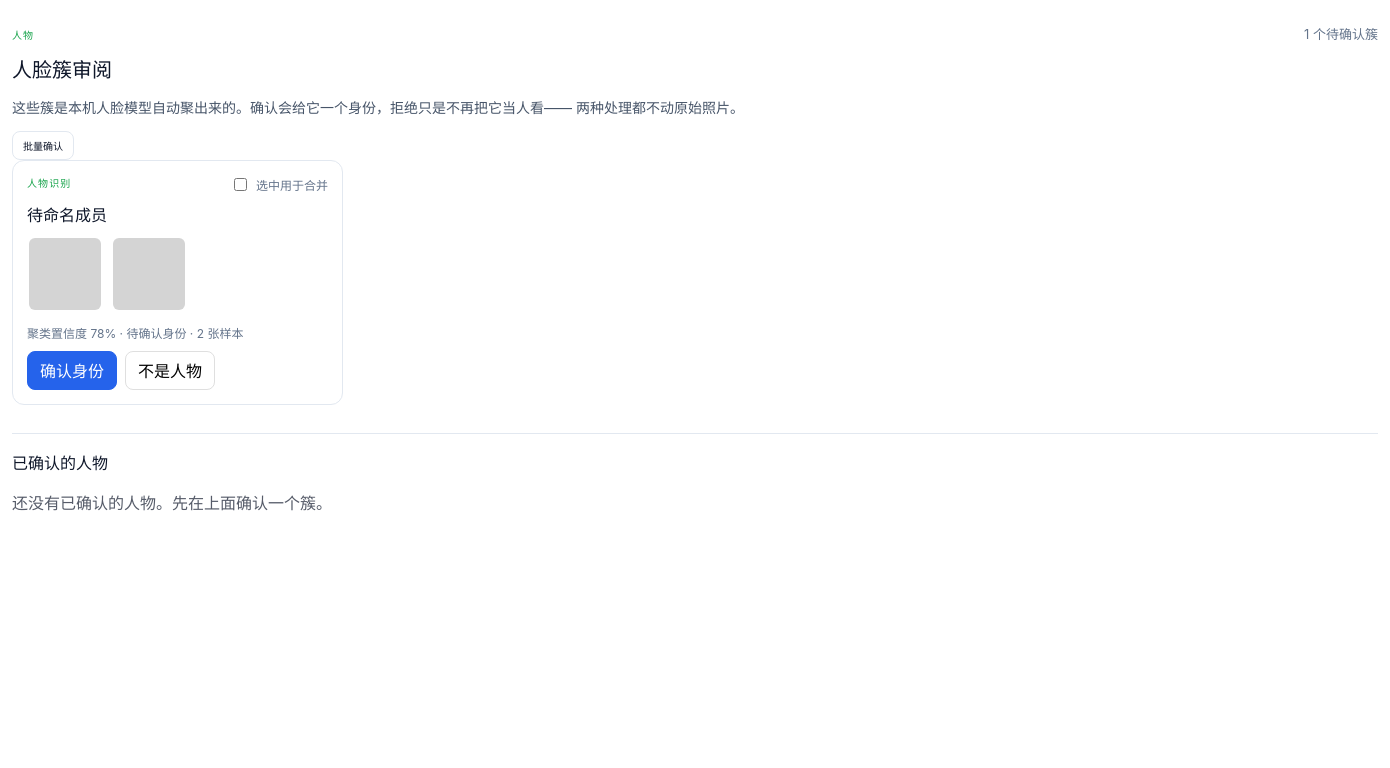
Scenario: 人脸簇审阅页 › 确认一个簇会带着名字与家庭角色打到 confirm 端点，并让它从待确认里消失
Click the button "确认身份".
click(72, 370)  # box [27,351,117,390]
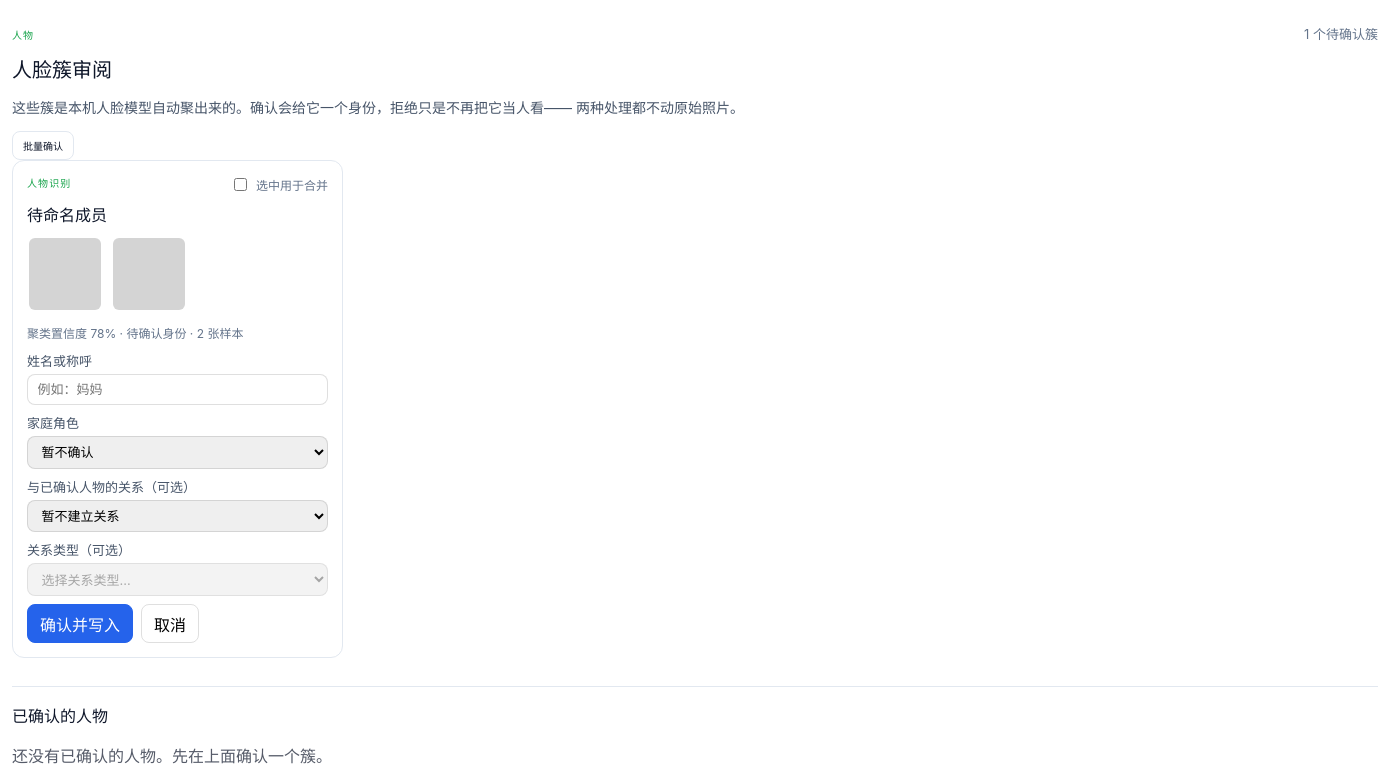
Type "妈妈" into the field.
click(178, 389); type("妈妈")  # box [27,374,328,405]
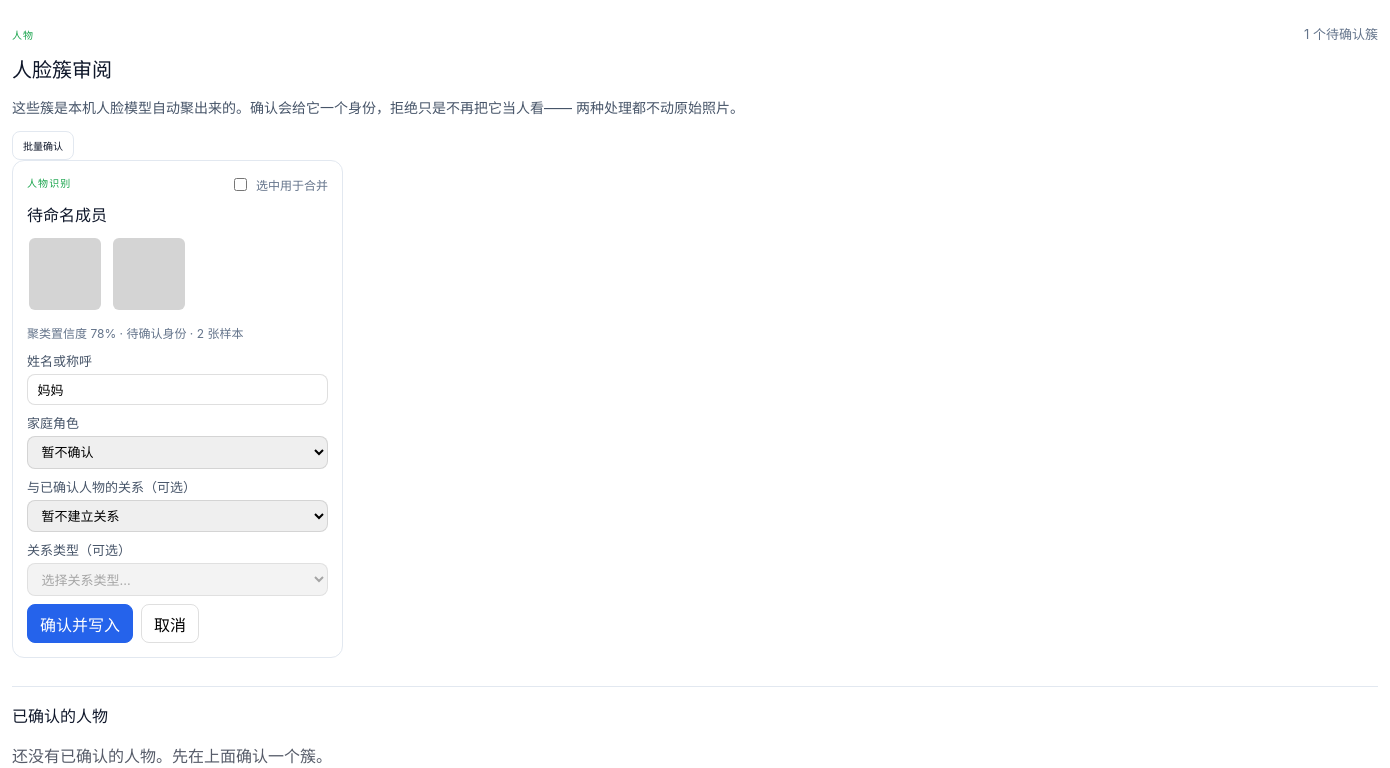
Select "母亲" in the dropdown labelled "家庭角色" at (178, 452), box [27,436,328,469]
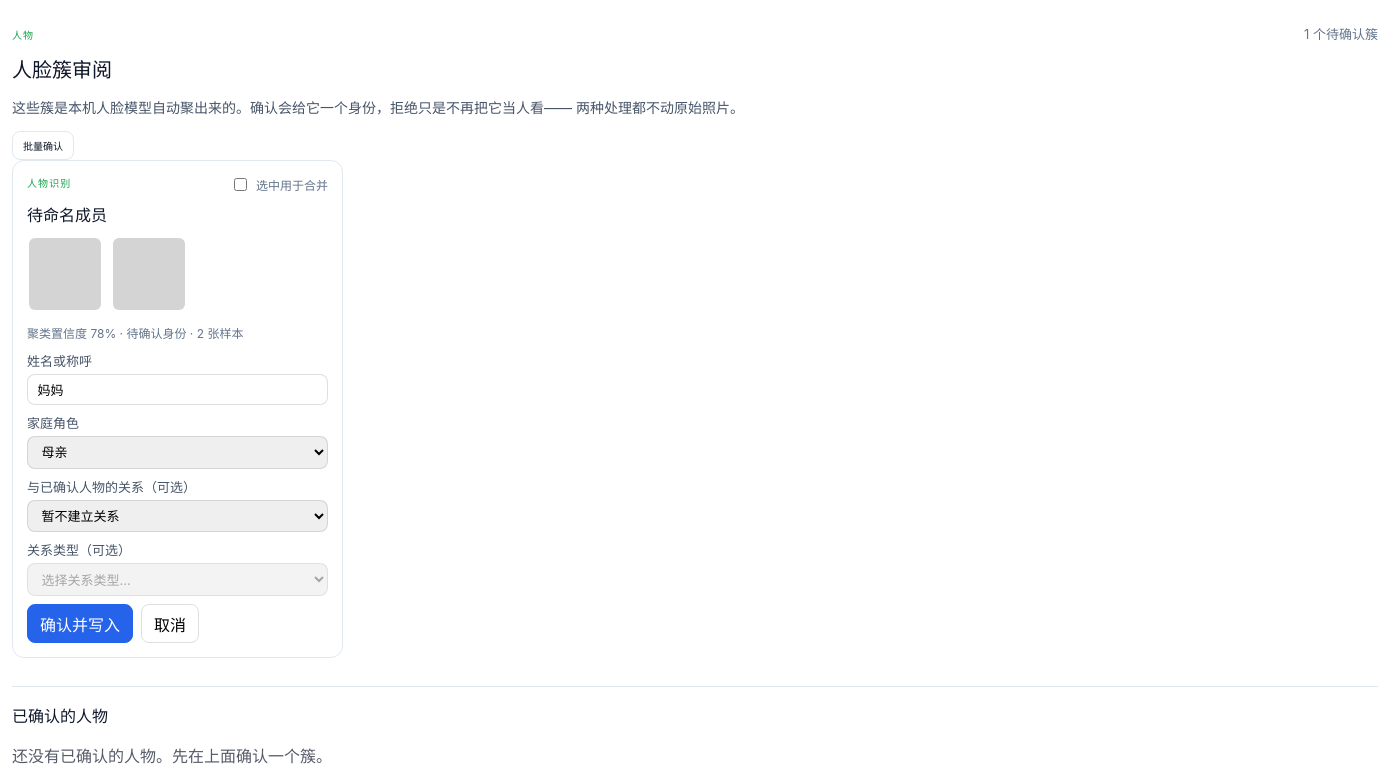
Click the button "确认并写入".
click(80, 624)  # box [27,604,133,643]
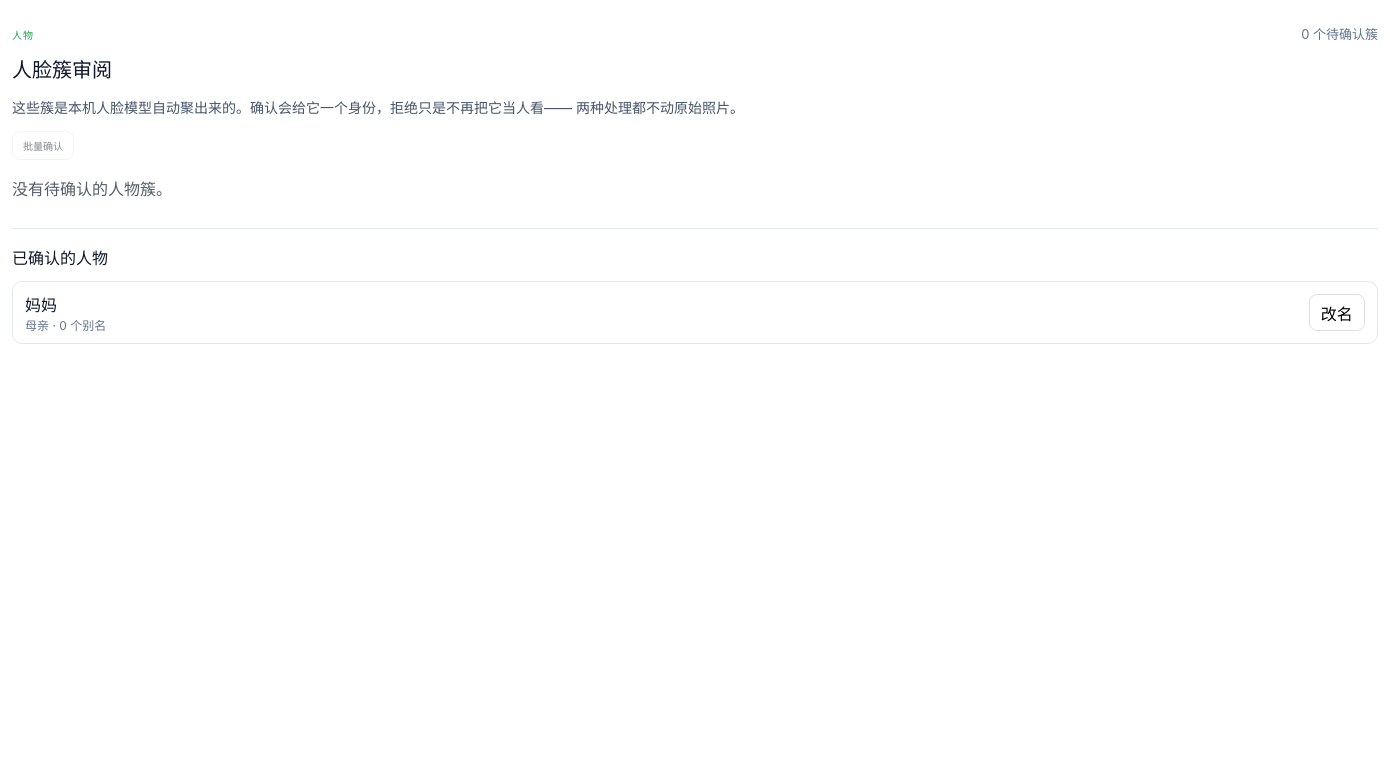
expect the text "0 个待确认簇" is shown: met, box [1301,24,1378,43]
expect the text "妈妈" is shown: met, box [25,295,57,315]
